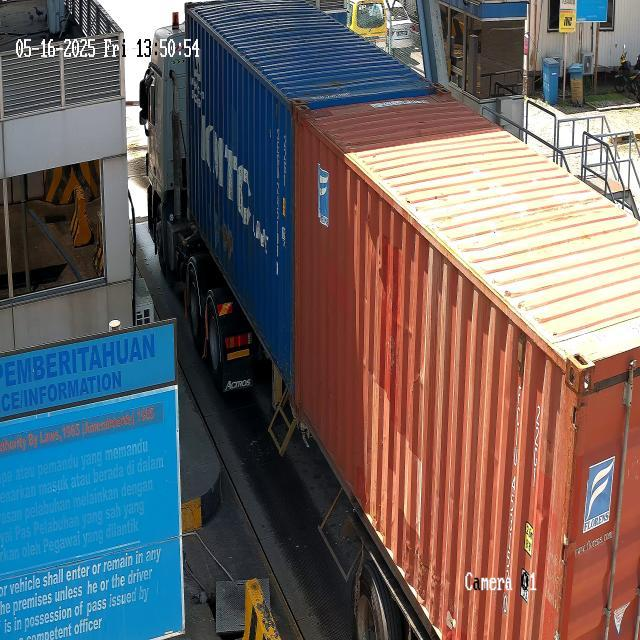ISO: (276, 122, 294, 182), (530, 394, 541, 484)
container_number: (502, 373, 530, 602), (268, 116, 282, 280)
